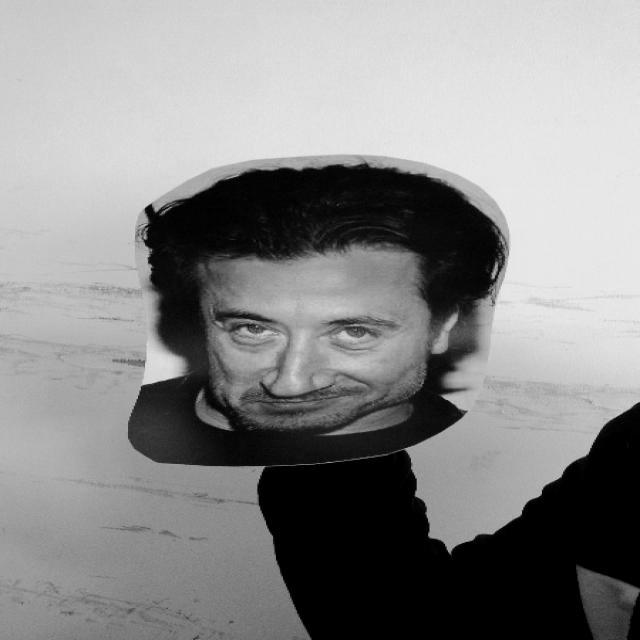fake: (110, 145, 524, 474)
